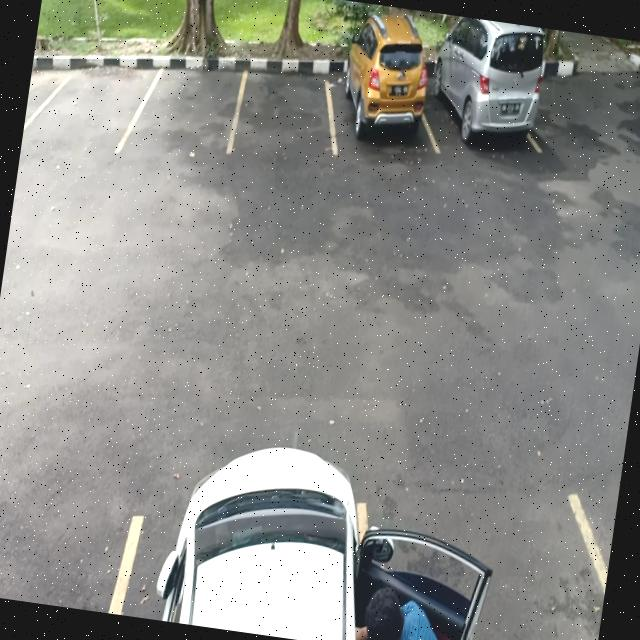empty: (130, 48, 250, 164), (33, 47, 148, 162), (228, 51, 339, 162)
occupied: (422, 35, 555, 166), (324, 39, 436, 167)
